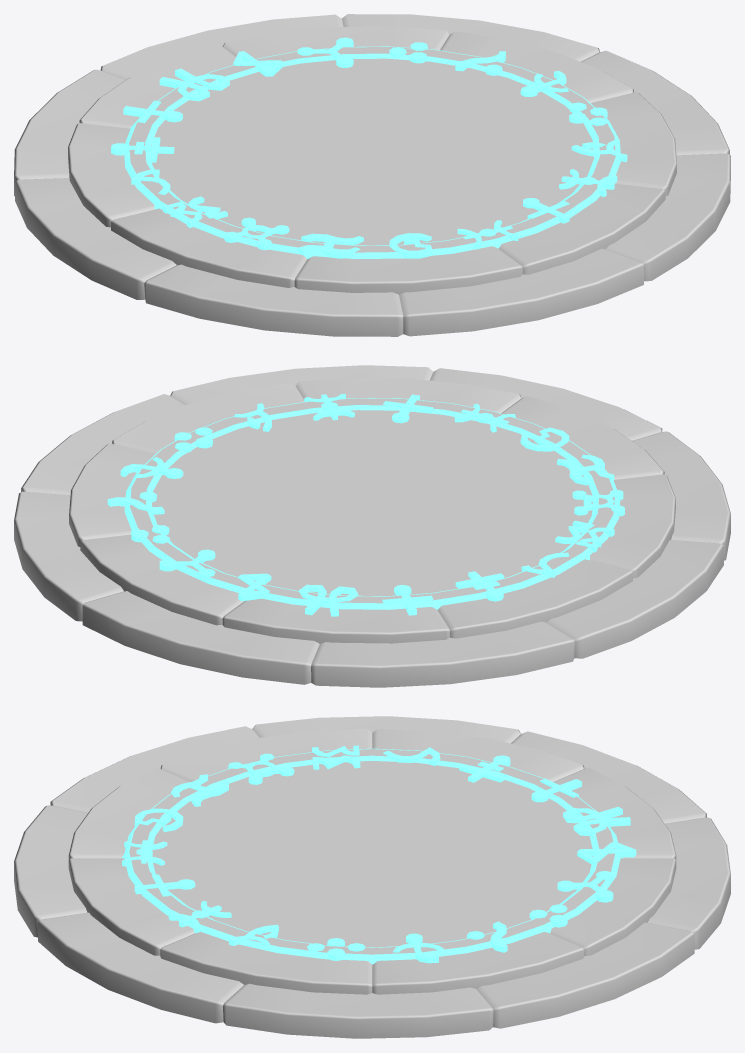
The model's file is CentralAltar.fbx.
3 renders of one model, top to bottom at view 1: azimuth 30°, elevation 25°; view 2: azimuth 150°, elevation 25°; view 3: azimuth 270°, elevation 25°, orthographic.
Parts seen in each view (by area): view 1: circle_001.017, state_warlock_circle_001.006; view 2: circle_001.017, state_warlock_circle_001.006; view 3: circle_001.017, state_warlock_circle_001.006.
Boxes of the visible parts, x1,y1,x2,y2 form: circle_001.017: [14, 14, 730, 336]; state_warlock_circle_001.006: [111, 37, 627, 258]; circle_001.017: [14, 365, 730, 687]; state_warlock_circle_001.006: [107, 393, 624, 616]; circle_001.017: [14, 716, 730, 1038]; state_warlock_circle_001.006: [122, 745, 636, 963].
Bounding box in the file's own units: 12.47 × 0.7113 × 12.47.
